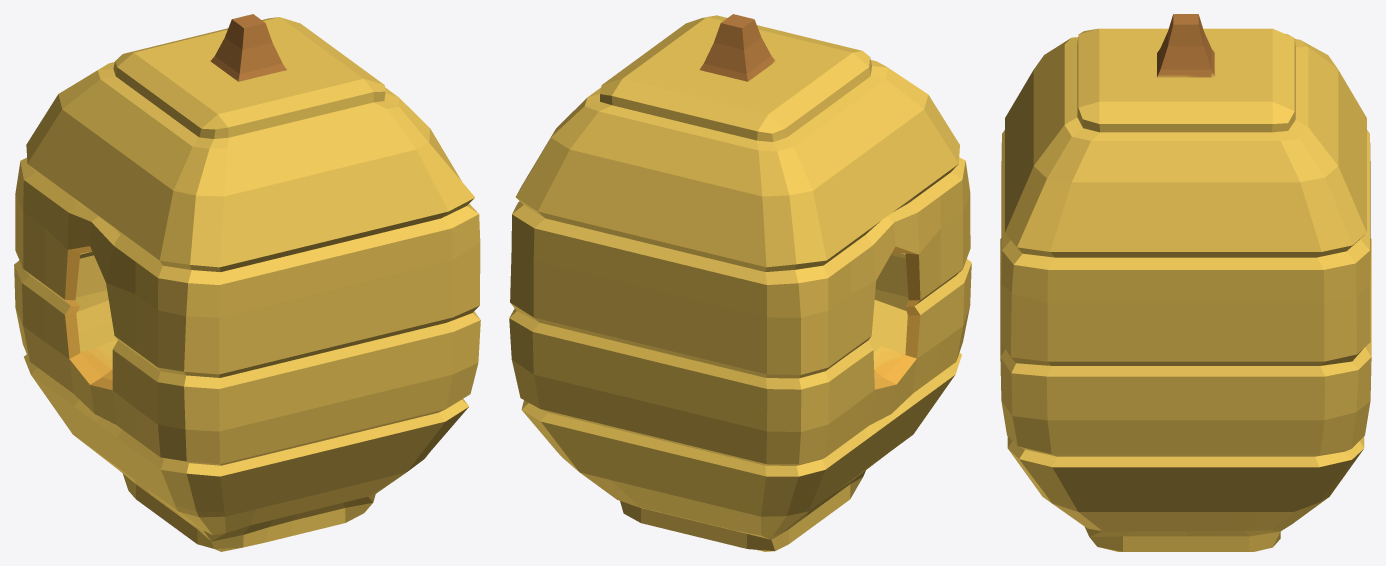
File: beehive.glb
3 renders of one model, left to right at view 1: azimuth 30°, elevation 25°; view 2: azimuth 150°, elevation 25°; view 3: azimuth 270°, elevation 25°, orthographic. The views are drawn at different scales.
Visible parts, largest first — view 1: Cube; view 2: Cube; view 3: Cube.
Part boxes in pixels (x1,y1,x2,y2): Cube: (14, 14, 480, 551); Cube: (509, 14, 971, 551); Cube: (1000, 14, 1371, 551).
Bounding box in the file's own units: 3.26 × 4.86 × 3.23.
Materials: 1 (1 with a texture image).
